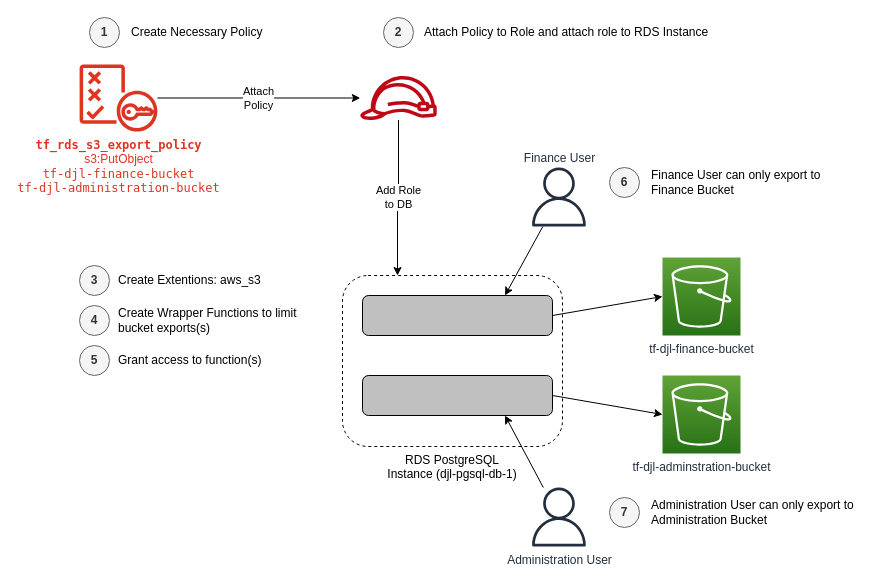
The diagram is 896 pixels wide and 585 high, and some of its shapes have lost their labels. The centre of each missing label's shape, as x and y in pixels:
export_to_administration_bucket(): (457,395)
export_to_finance_bucket(): (457,315)
tf_rds_s3_export_role: (398,98)
